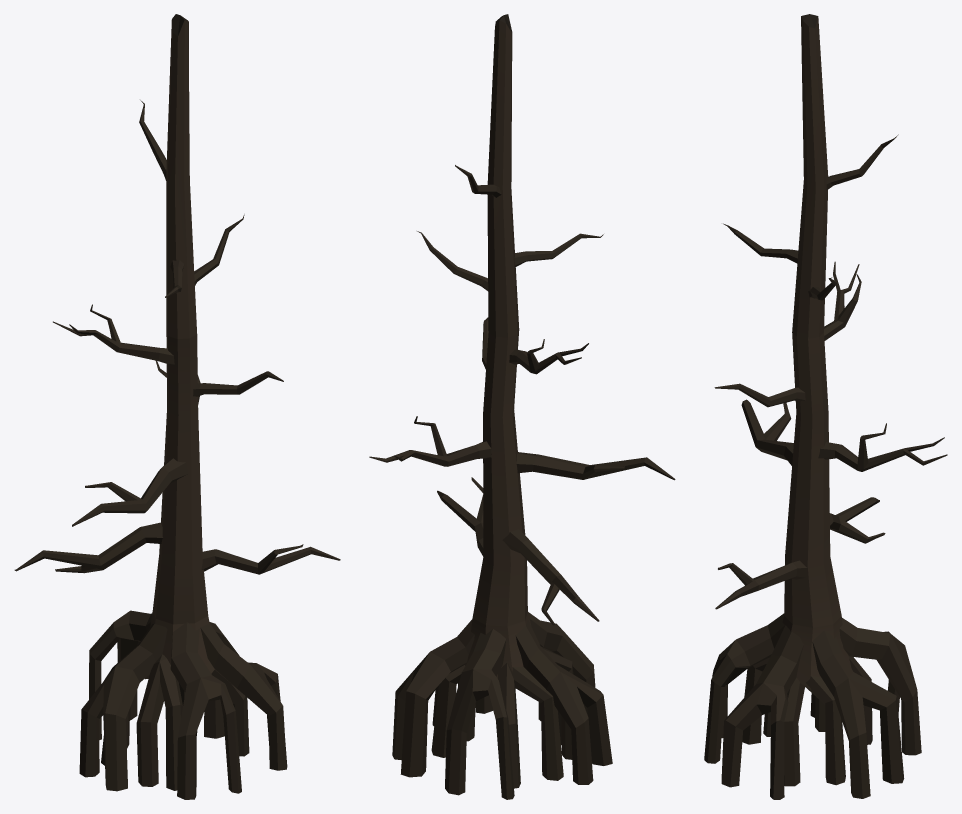
Rendered from synty-tree-swamp-04.gltf.
3 renders of one model, left to right at view 1: azimuth 30°, elevation 25°; view 2: azimuth 150°, elevation 25°; view 3: azimuth 270°, elevation 25°, orthographic.
Parts seen in each view (by area): view 1: SM_Tree_Swamp_04; view 2: SM_Tree_Swamp_04; view 3: SM_Tree_Swamp_04.
Part boxes in pixels (<box>): SM_Tree_Swamp_04: <box>14,14,340,799</box>; SM_Tree_Swamp_04: <box>369,14,675,799</box>; SM_Tree_Swamp_04: <box>704,14,947,799</box>.
Bounding box in the file's own units: 2.65 × 7.42 × 2.2.
1 material, 1 textured.
